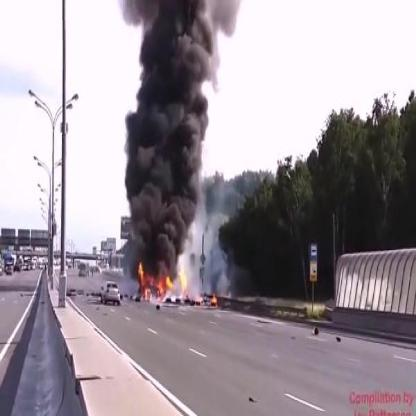fire: (137, 259, 190, 307), (194, 288, 219, 312)
